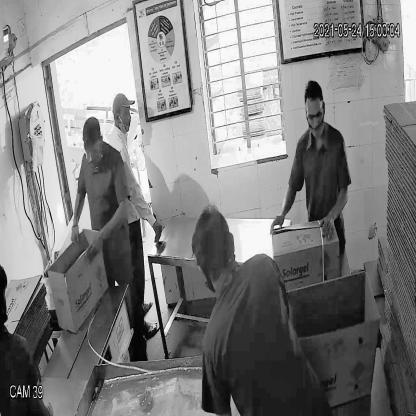goggles: (302, 103, 326, 125)
